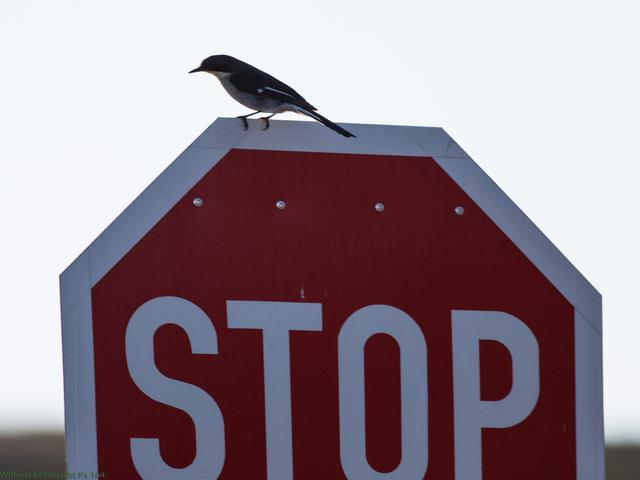bird: (184, 42, 385, 146)
